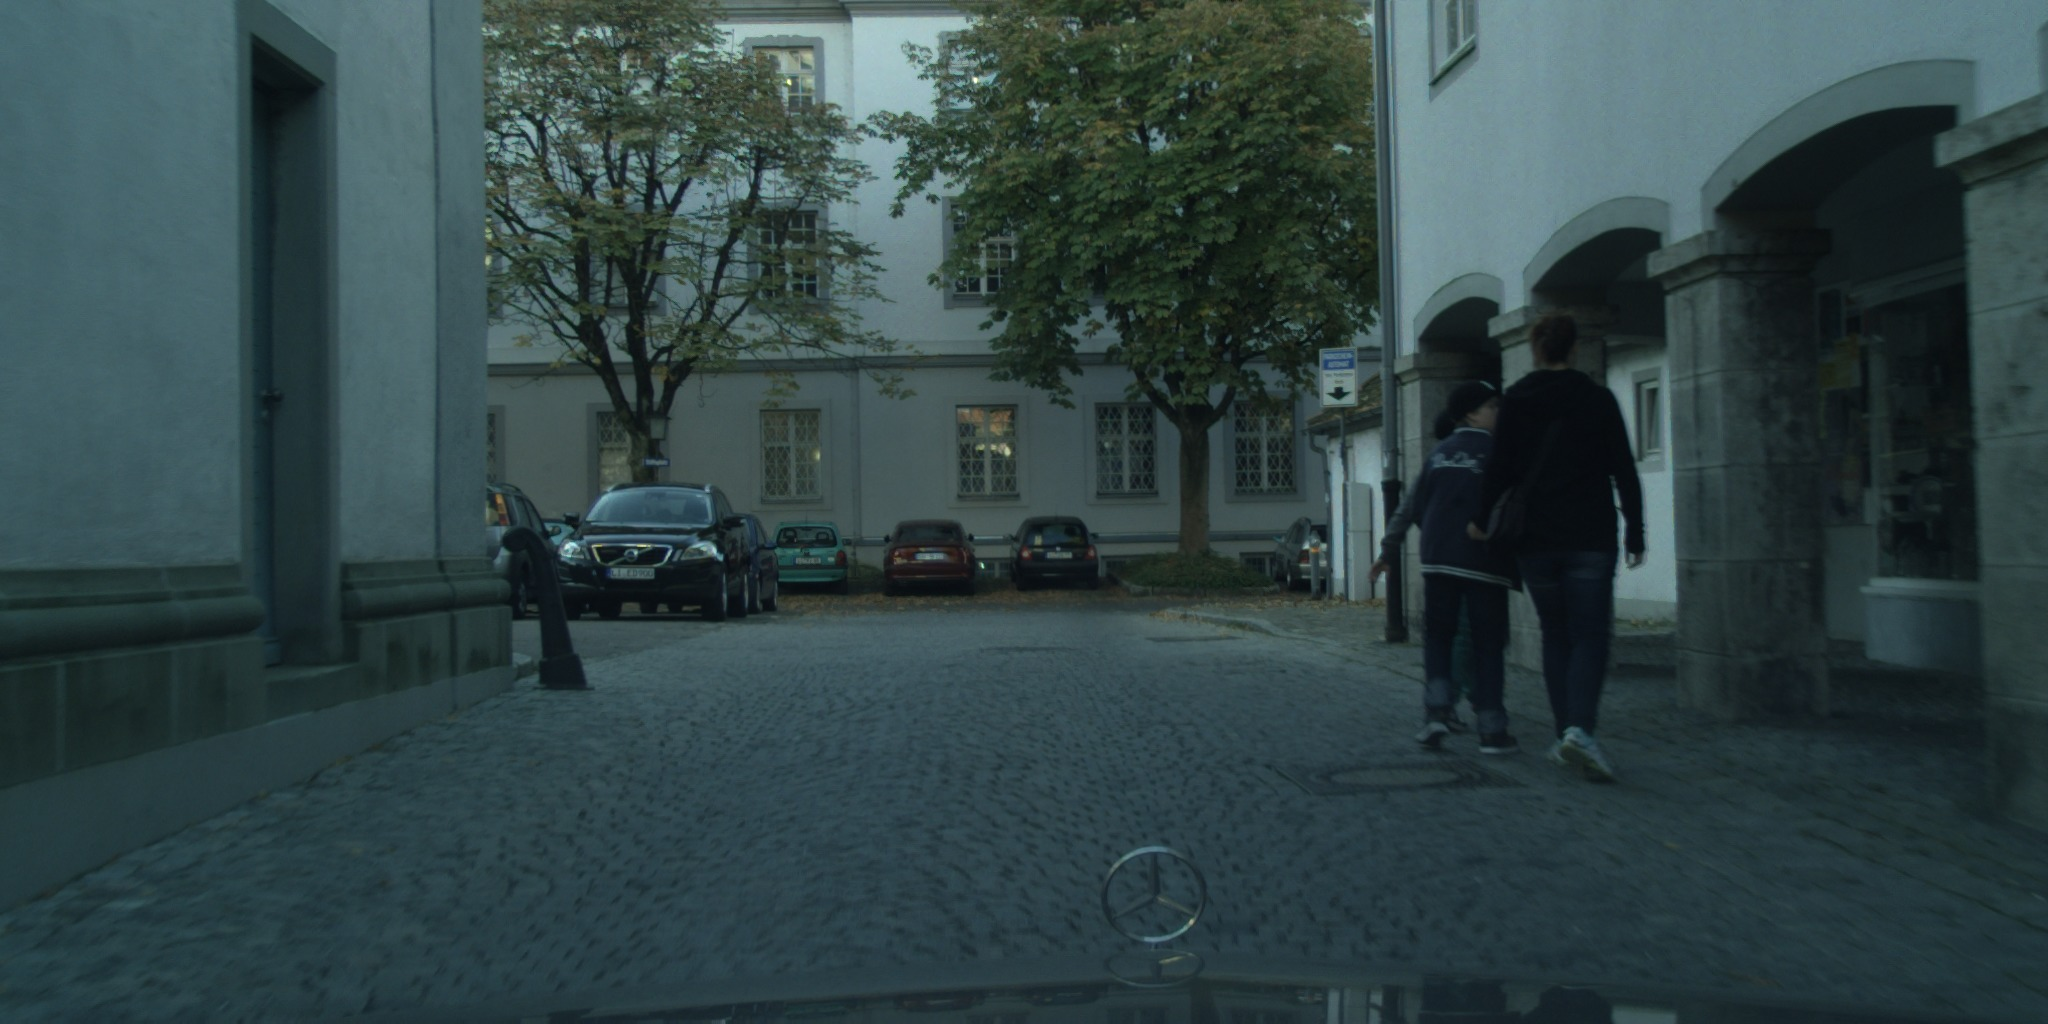car: (551, 480, 753, 622), (485, 482, 562, 621), (1002, 515, 1101, 592), (882, 518, 977, 597), (770, 520, 852, 594), (736, 513, 780, 614), (1272, 515, 1327, 591), (541, 511, 580, 557)
person: (1467, 314, 1646, 785), (1366, 381, 1523, 753)
